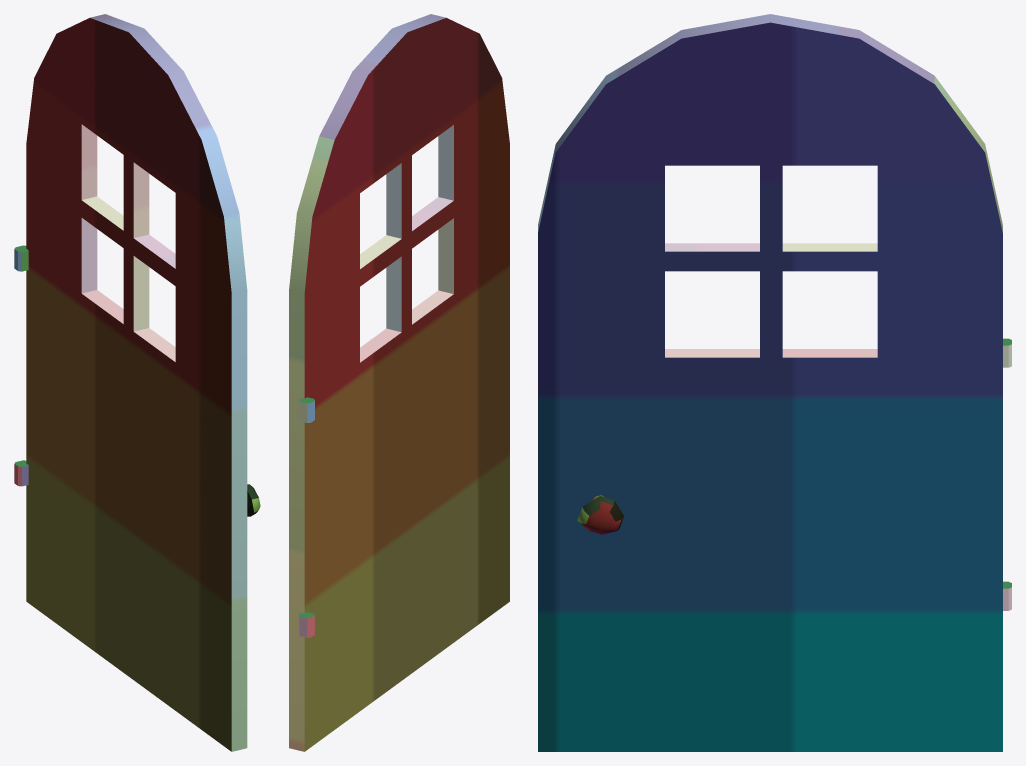
Rendered from door.fbx.
The picture shows the model from 3 angles, left to right: view 1: azimuth 30°, elevation 25°; view 2: azimuth 150°, elevation 25°; view 3: azimuth 270°, elevation 25°; orthographic projection. The views are drawn at different scales.
Parts seen in each view (by area): view 1: door; view 2: door; view 3: door.
Boxes of the visible parts, left/top/right/bottom form: door: left=14, top=14, right=260, bottom=751; door: left=289, top=14, right=509, bottom=751; door: left=538, top=14, right=1011, bottom=751.
Bounding box in the file's own units: 0.2332 × 2.31 × 1.36.
